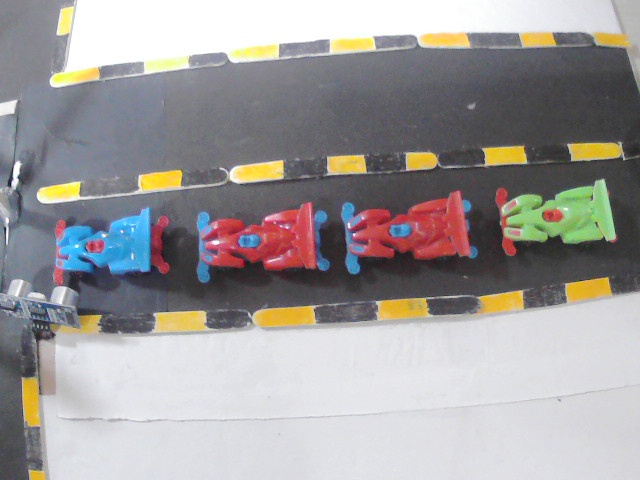car: (493, 184, 633, 265), (341, 193, 494, 267), (189, 204, 331, 280), (43, 216, 167, 298)
uno_breadboard: (0, 273, 77, 323)
